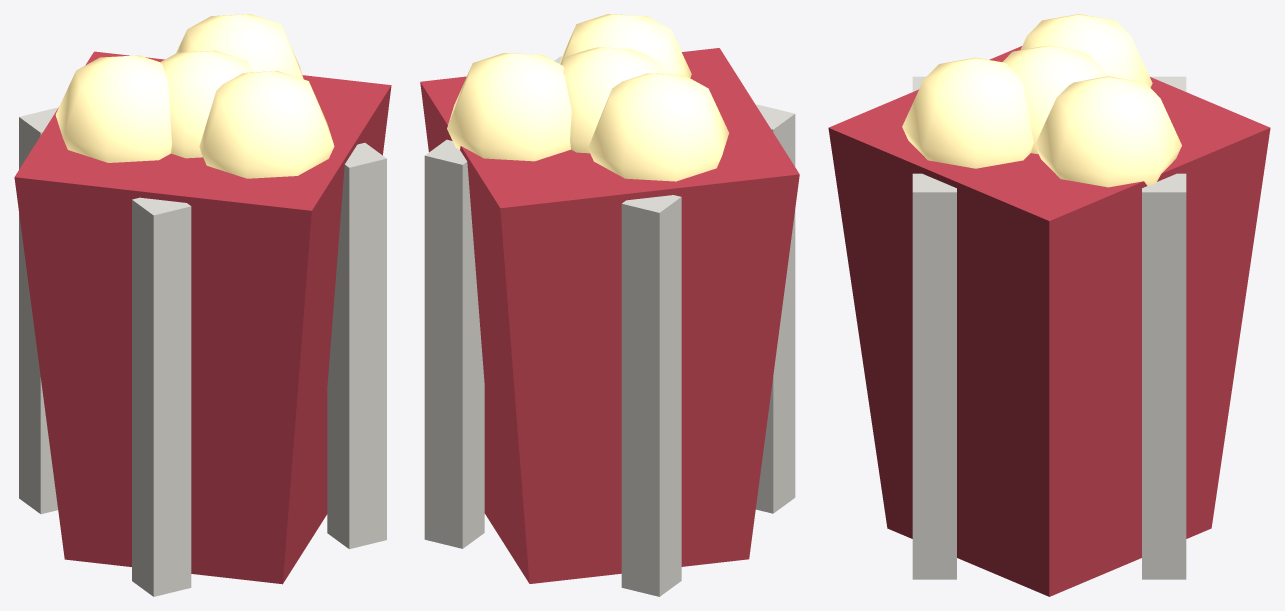
File: popcorn_box.glb
3 renders of one model, left to right at view 1: azimuth 30°, elevation 25°; view 2: azimuth 150°, elevation 25°; view 3: azimuth 270°, elevation 25°, orthographic.
Visible parts, largest first — view 1: PopcornBox; view 2: PopcornBox; view 3: PopcornBox.
Boxes of the visible parts, x1,y1,x2,y2 form: PopcornBox: (14, 14, 391, 596); PopcornBox: (420, 14, 799, 596); PopcornBox: (828, 14, 1270, 596).
Size of the model in its own units: 0.3 by 0.36 by 0.3.
